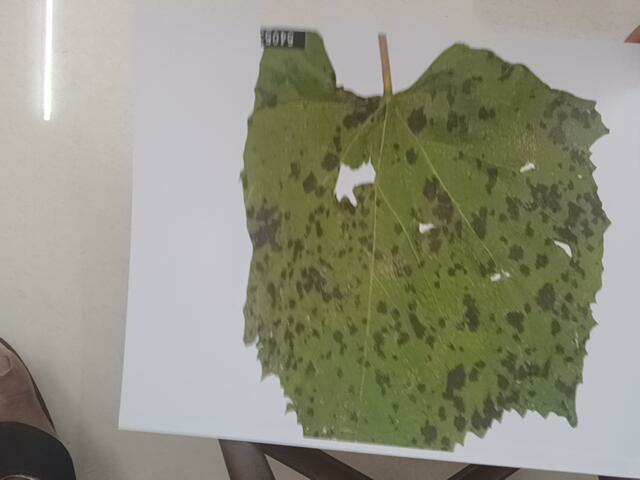Grape_Blight_Leaf: (244, 26, 597, 447)
